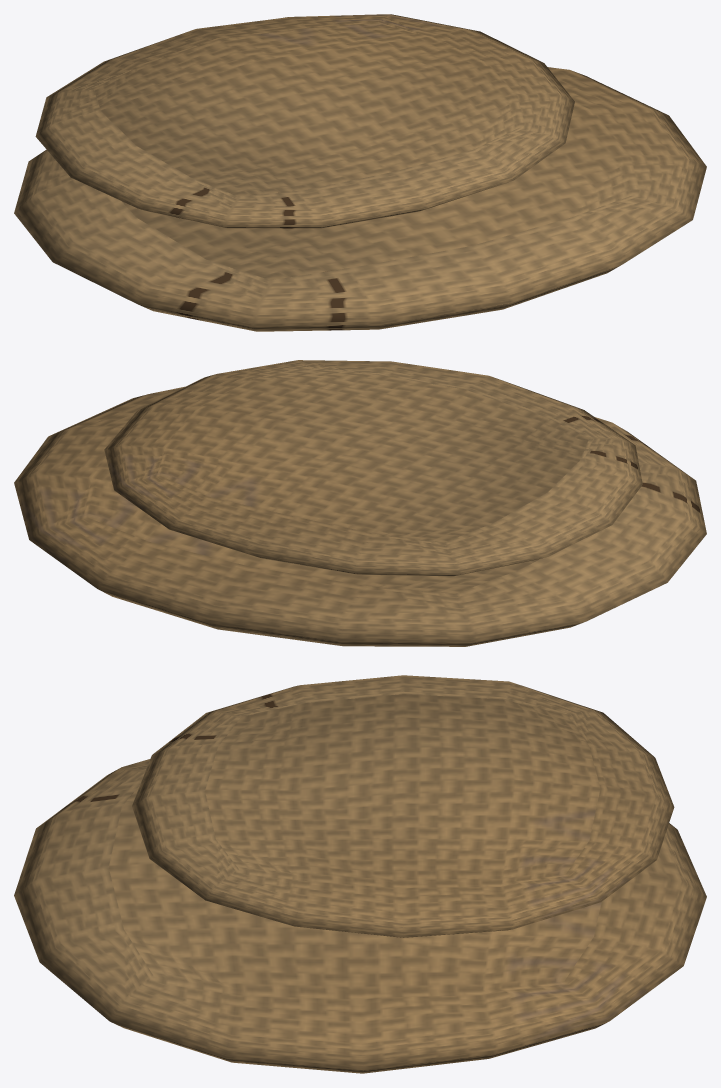
File: assento.gltf
3 renders of one model, top to bottom at view 1: azimuth 30°, elevation 25°; view 2: azimuth 150°, elevation 25°; view 3: azimuth 270°, elevation 25°, orthographic. The views are drawn at different scales.
Visible parts, largest first — view 1: SacoDeCima, SacoDobrado; view 2: SacoDeCima, SacoDobrado; view 3: SacoDeCima, SacoDobrado.
Part boxes in pixels (box(x1,y1,x2,y2)): SacoDeCima: box(35, 14, 574, 228); SacoDobrado: box(14, 67, 706, 331); SacoDeCima: box(104, 360, 642, 576); SacoDobrado: box(14, 386, 706, 646); SacoDeCima: box(132, 675, 674, 937); SacoDobrado: box(14, 759, 706, 1073).
Size of the model in its own units: 0.372 by 0.0714 by 0.3217.
1 material, 1 textured.
